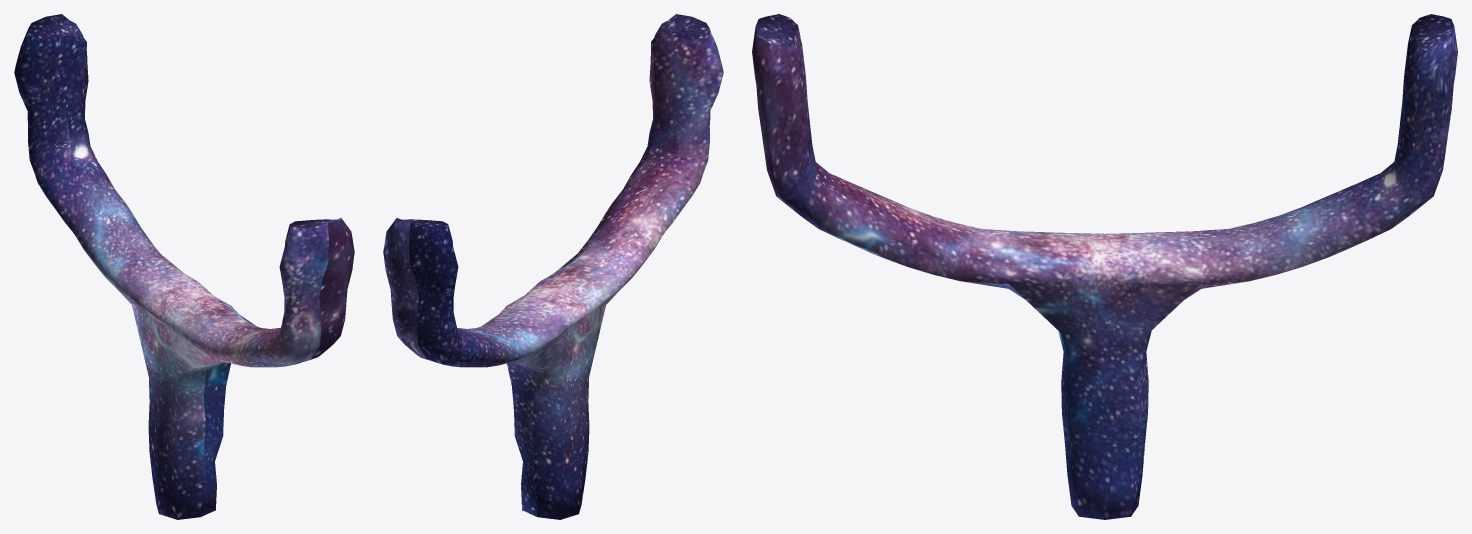
File: slingshot.fbx
The picture shows the model from 3 angles, left to right: view 1: azimuth 30°, elevation 25°; view 2: azimuth 150°, elevation 25°; view 3: azimuth 270°, elevation 25°; orthographic projection. The views are drawn at different scales.
Visible parts, largest first — view 1: NurbsCurve; view 2: NurbsCurve; view 3: NurbsCurve.
Boxes of the visible parts, x1=… form: NurbsCurve: x1=14, y1=14, x2=354, y2=519; NurbsCurve: x1=383, y1=14, x2=723, y2=519; NurbsCurve: x1=752, y1=14, x2=1457, y2=519.
Bounding box in the file's own units: 6.7 × 34.29 × 45.75.
Materials: 1 (1 with a texture image).
